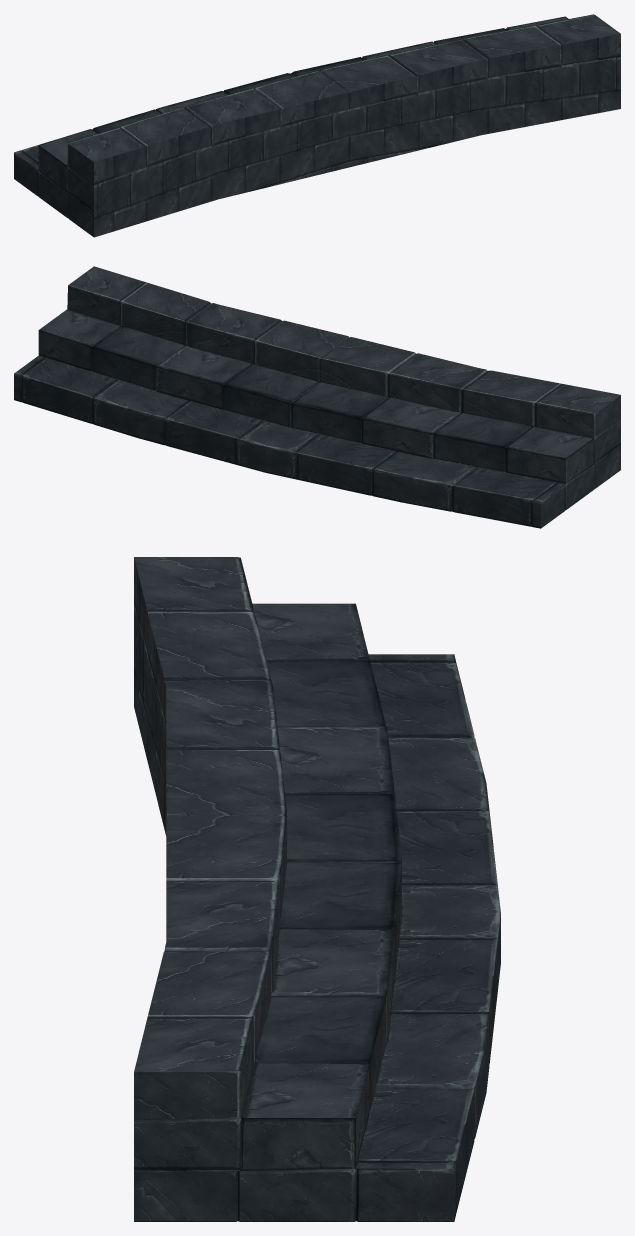
The model's file is escada.fbx.
The picture shows the model from 3 angles, top to bottom: view 1: azimuth 30°, elevation 25°; view 2: azimuth 150°, elevation 25°; view 3: azimuth 270°, elevation 25°; orthographic projection. The views are drawn at different scales.
Parts seen in each view (by area): view 1: Cube; view 2: Cube; view 3: Cube.
Boxes of the visible parts, x1,y1,x2,y2 form: Cube: [14, 14, 620, 237]; Cube: [14, 266, 620, 528]; Cube: [134, 557, 500, 1221].
Bounding box in the file's own units: 976 × 133 × 294.
1 material, 1 textured.
